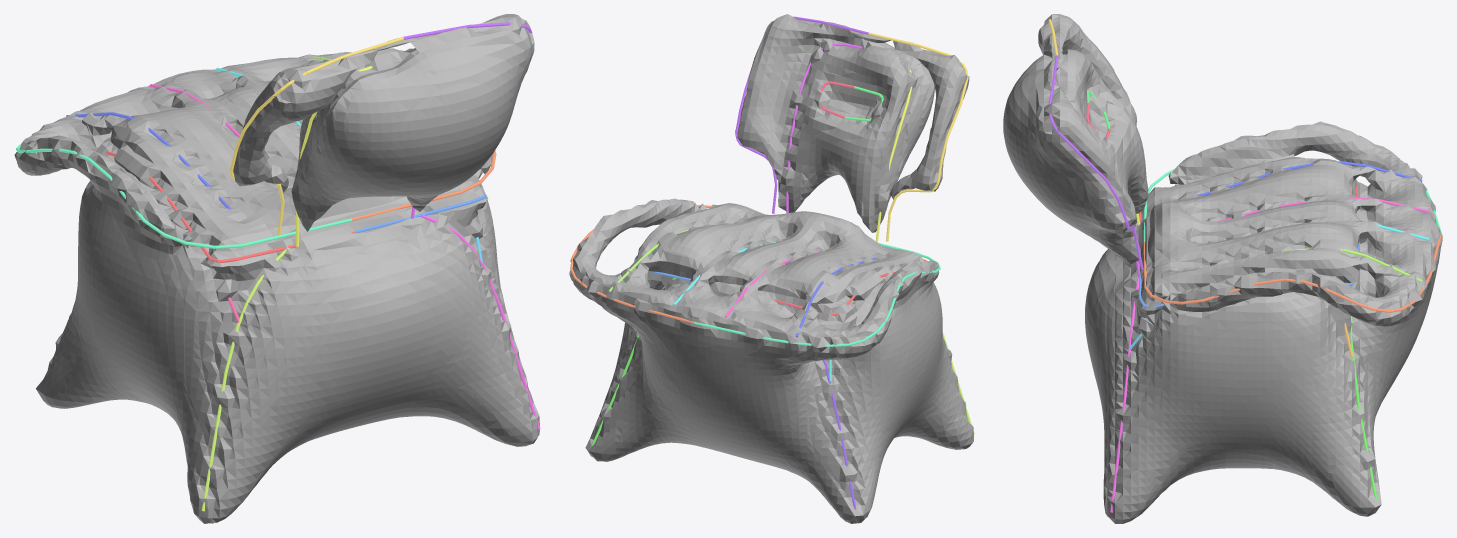
The model's file is author1_chair.gltf.
3 views of the same model, side by side, from view 1: azimuth 30°, elevation 25°; view 2: azimuth 150°, elevation 25°; view 3: azimuth 270°, elevation 25° (orthographic). The views are drawn at different scales.
Size of the model in its own units: 0.5662 by 0.6363 by 0.6301.
